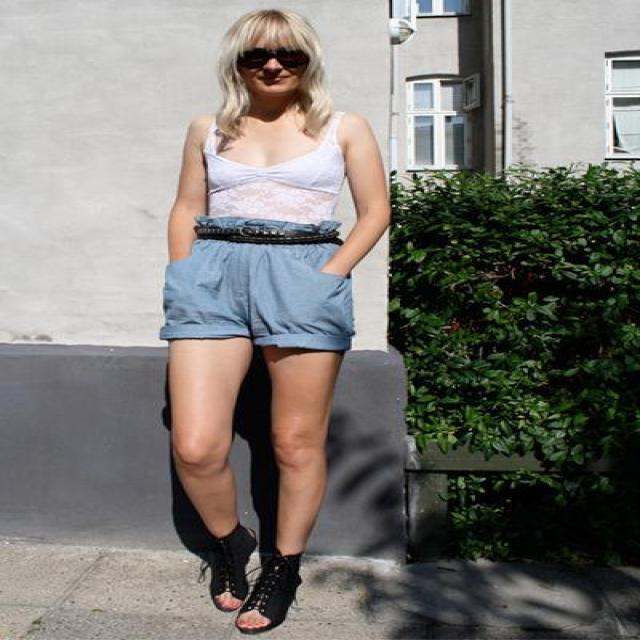shirt: (206, 117, 352, 230)
shoe: (200, 525, 302, 626)
shorts: (160, 218, 355, 348)
sunglass: (235, 47, 309, 88)
